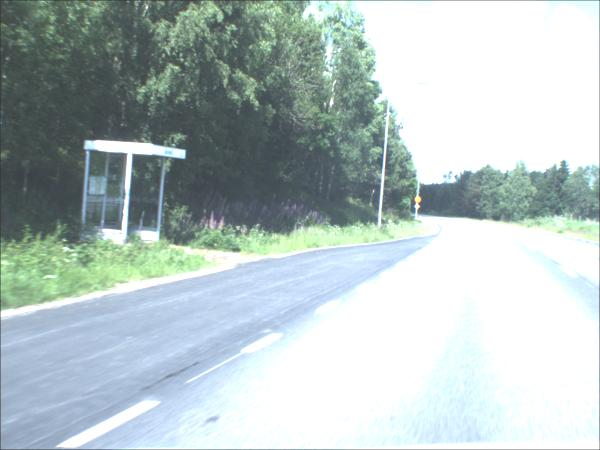80_SIGN: (414, 197, 422, 205)
PRIORITY_ROAD: (414, 205, 421, 211)
